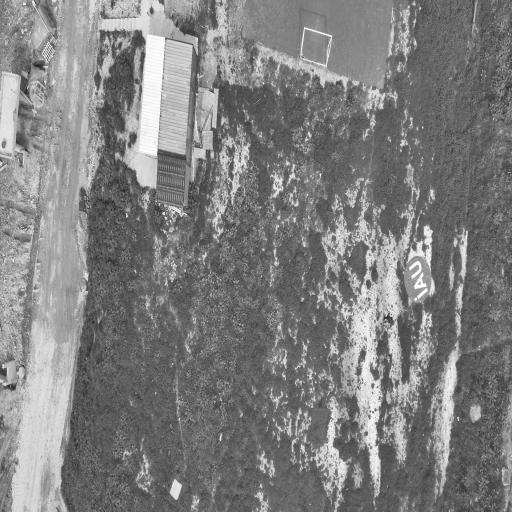UAI: (405, 256, 431, 301)
person: (384, 312, 392, 323)
